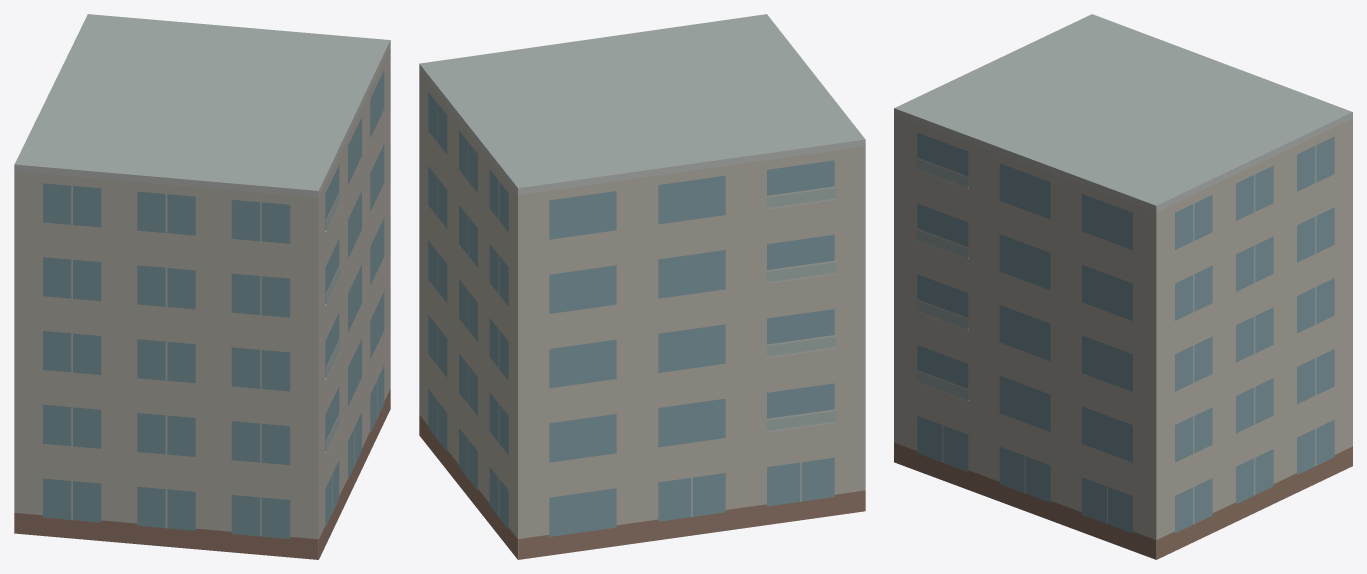
The model's file is survey-upis-32892757.glb.
The picture shows the model from 3 angles, left to right: view 1: azimuth 30°, elevation 25°; view 2: azimuth 150°, elevation 25°; view 3: azimuth 270°, elevation 25°; orthographic projection. The views are drawn at different scales.
Visible parts, largest first — view 1: survey-upis-32892757.tmp; view 2: survey-upis-32892757.tmp; view 3: survey-upis-32892757.tmp.
Part boxes in pixels (x1,y1,x2,y2): survey-upis-32892757.tmp: [14, 14, 390, 559]; survey-upis-32892757.tmp: [419, 14, 865, 559]; survey-upis-32892757.tmp: [894, 14, 1352, 559].
Size of the model in its own units: 15.4 by 13.25 by 15.56.
